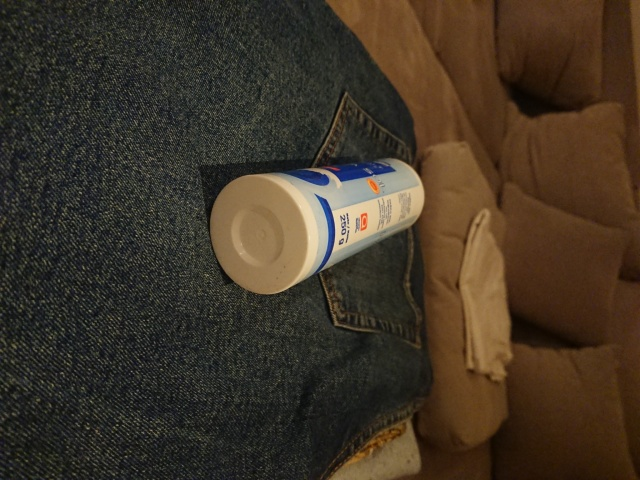Solana Pag Fine Sea Salt 250g: (206, 154, 428, 299)
